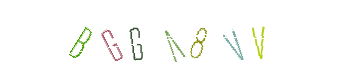8: (132, 0, 212, 80)
A: (129, 0, 209, 80)
B: (73, 0, 153, 80)
G: (83, 0, 163, 80), (96, 0, 176, 80)
V: (139, 0, 219, 80), (203, 0, 283, 80)
